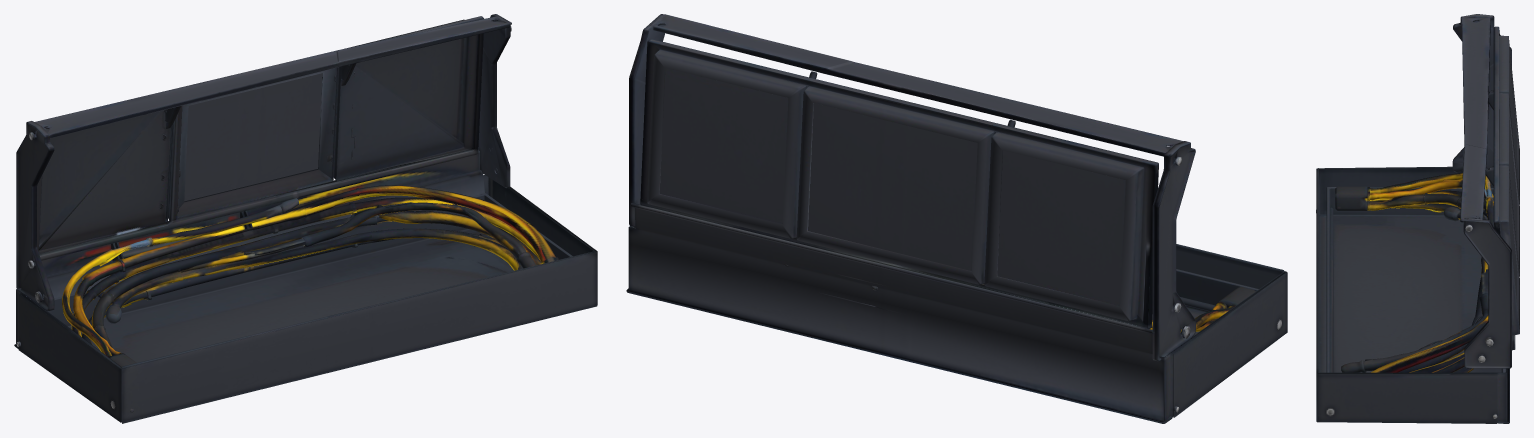
The model's file is Cable Tray.glb.
The picture shows the model from 3 angles, left to right: view 1: azimuth 30°, elevation 25°; view 2: azimuth 150°, elevation 25°; view 3: azimuth 270°, elevation 25°; orthographic projection. The views are drawn at different scales.
Visible parts, largest first — view 1: tripo_node_ffdb9b2a-c35b-46fd-b631-f9b0b90bafc1; view 2: tripo_node_ffdb9b2a-c35b-46fd-b631-f9b0b90bafc1; view 3: tripo_node_ffdb9b2a-c35b-46fd-b631-f9b0b90bafc1.
Boxes of the visible parts, bbox=[...] form: tripo_node_ffdb9b2a-c35b-46fd-b631-f9b0b90bafc1: bbox=[14, 14, 597, 423]; tripo_node_ffdb9b2a-c35b-46fd-b631-f9b0b90bafc1: bbox=[626, 14, 1287, 423]; tripo_node_ffdb9b2a-c35b-46fd-b631-f9b0b90bafc1: bbox=[1316, 14, 1519, 423].
Bounding box in the file's own units: 0.9995 × 0.4575 × 0.4106.
Materials: 1 (1 with a texture image).
